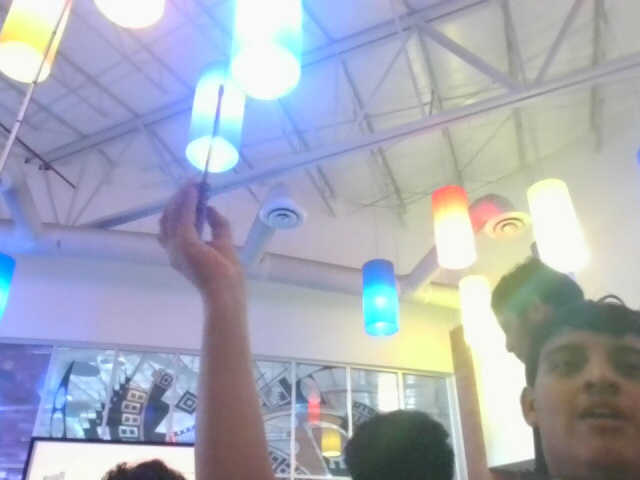destornillador: (194, 87, 219, 233)
